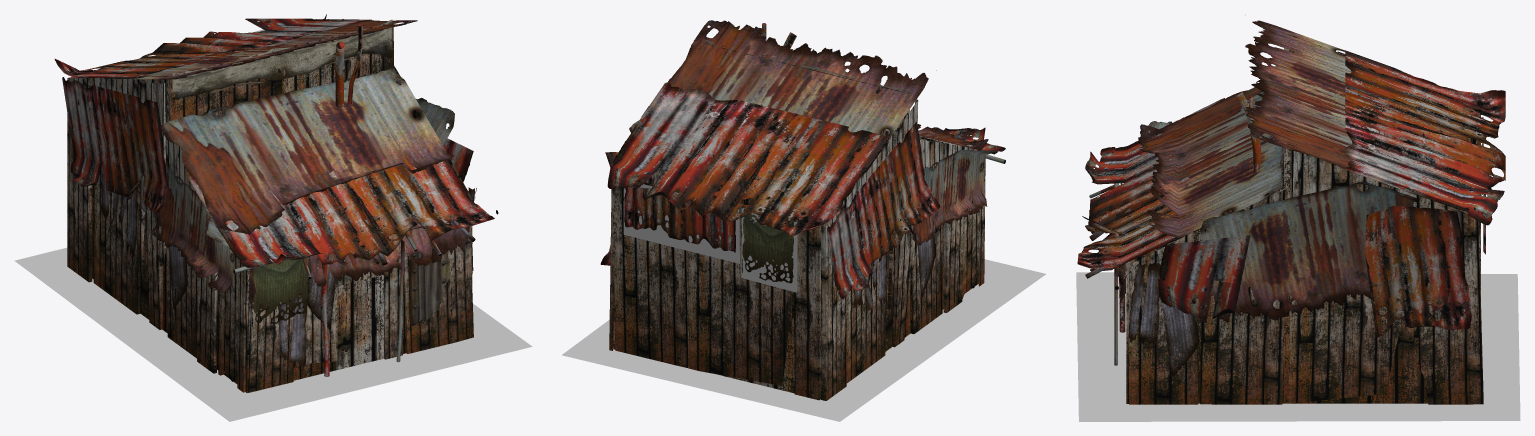
Rendered from MetalShack01.FBX.
3 renders of one model, left to right at view 1: azimuth 30°, elevation 25°; view 2: azimuth 150°, elevation 25°; view 3: azimuth 270°, elevation 25°, orthographic. The views are drawn at different scales.
Visible parts, largest first — view 1: shack:1, shack:0, shack:2; view 2: shack:1, shack:0, shack:2; view 3: shack:1, shack:0, shack:2.
Part boxes in pixels (x1,y1,x2,y2): shack:1: (54, 14, 498, 376); shack:0: (67, 19, 473, 392); shack:2: (14, 29, 532, 421); shack:1: (600, 20, 1005, 310); shack:0: (609, 40, 985, 400); shack:2: (562, 184, 1045, 421); shack:1: (1077, 20, 1505, 376); shack:0: (1120, 33, 1483, 404); shack:2: (1076, 272, 1520, 421).
Size of the model in its own units: 6.33 by 5.59 by 7.95.
